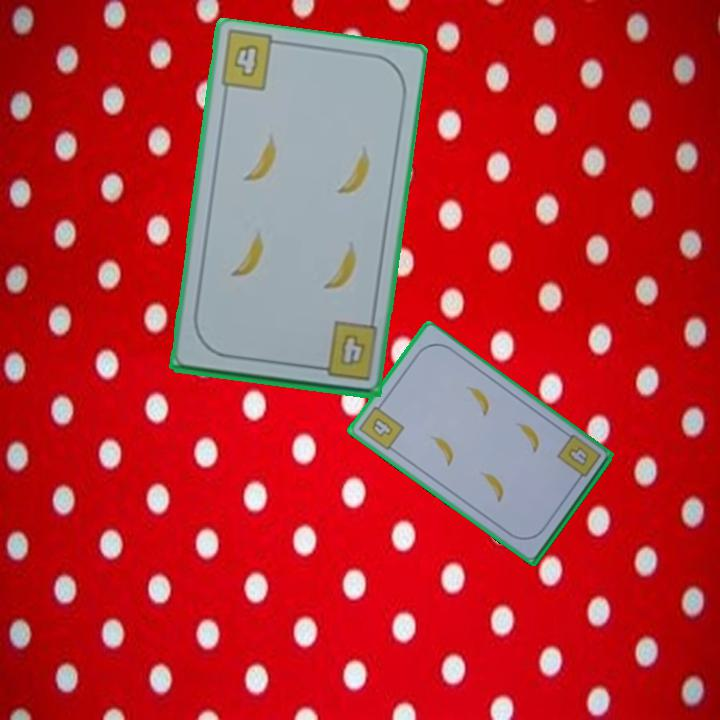4b: (309, 319, 380, 384), (355, 398, 407, 453), (553, 431, 604, 486), (229, 40, 261, 80)
